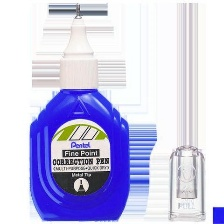correction_fluid: (27, 1, 133, 224)
